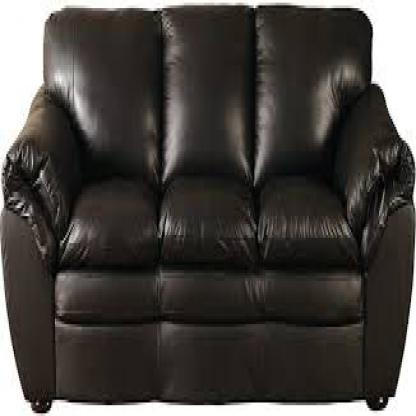sofa: (3, 11, 414, 411)
